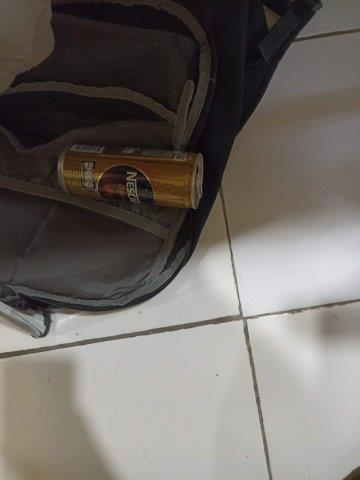kaleng: (57, 142, 204, 209)
